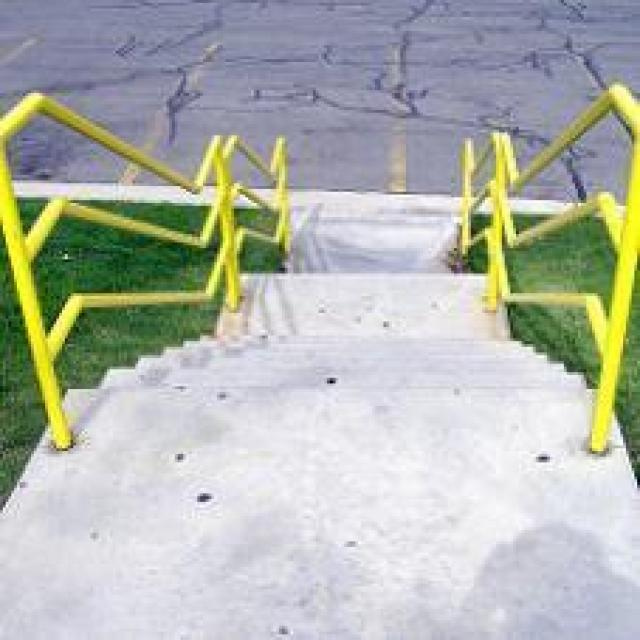stair: (80, 324, 586, 450)
